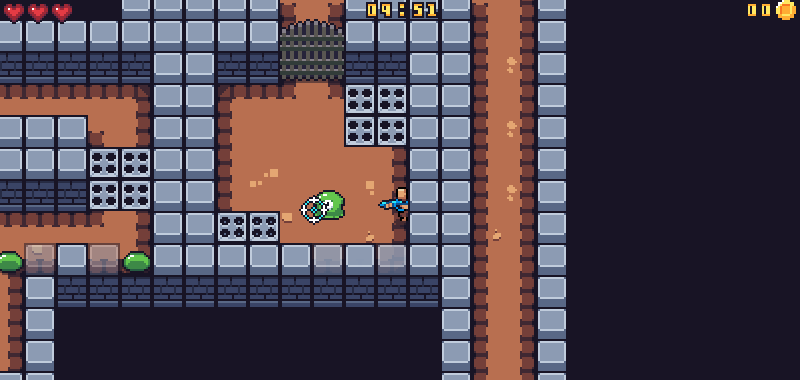enemy_slug: (118, 247, 156, 277), (1, 248, 24, 275)
enemy_slug_big: (312, 185, 348, 216)
trap_door: (276, 15, 349, 82)
trap_off: (86, 145, 153, 211), (344, 84, 410, 146), (215, 210, 282, 243)
